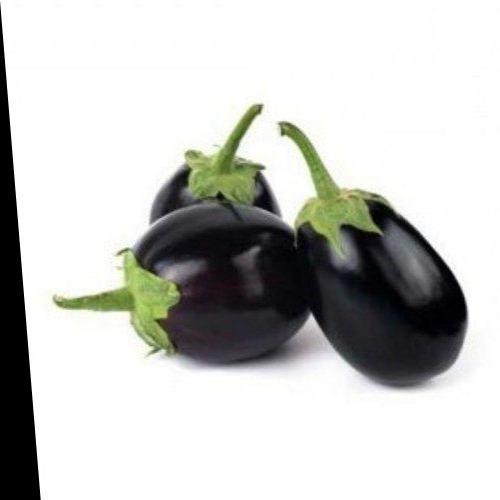eggplant: (70, 103, 460, 370), (25, 96, 340, 368), (43, 201, 332, 374), (293, 173, 467, 404)
